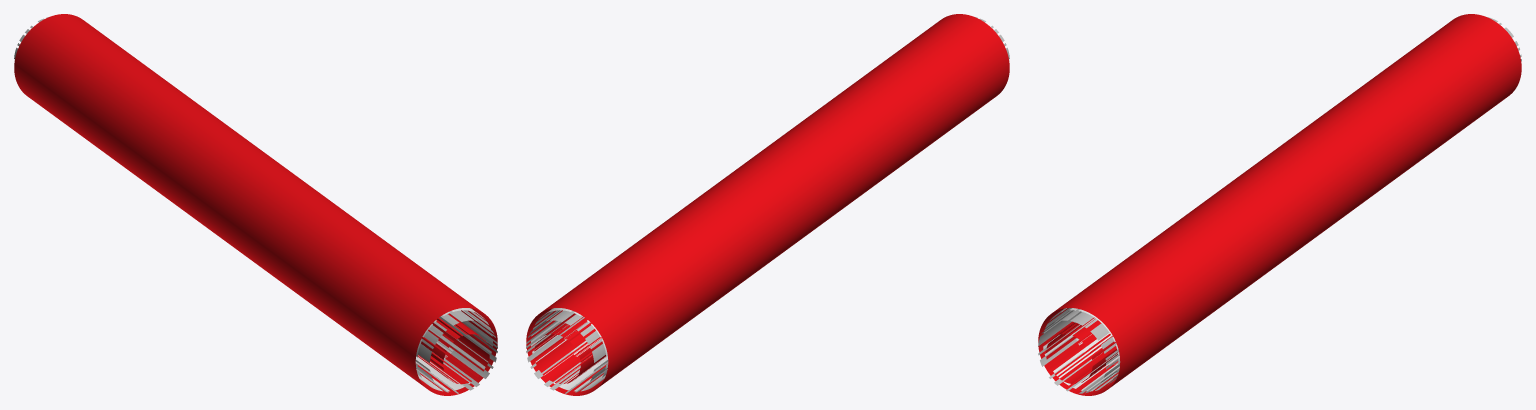
File: free_Abstract_tunnel.glb
The picture shows the model from 3 angles, left to right: view 1: azimuth 30°, elevation 25°; view 2: azimuth 150°, elevation 25°; view 3: azimuth 330°, elevation 25°; orthographic projection.
Visible parts, largest first — view 1: unnamed (×4); view 2: unnamed (×4); view 3: unnamed (×4).
Boxes of the visible parts, <box> form: unnamed (×4): <box>14,14,497,395</box>; unnamed (×4): <box>526,14,1009,395</box>; unnamed (×4): <box>1038,14,1521,395</box>.
Bounding box in the file's own units: 19.24 × 19.24 × 171.
